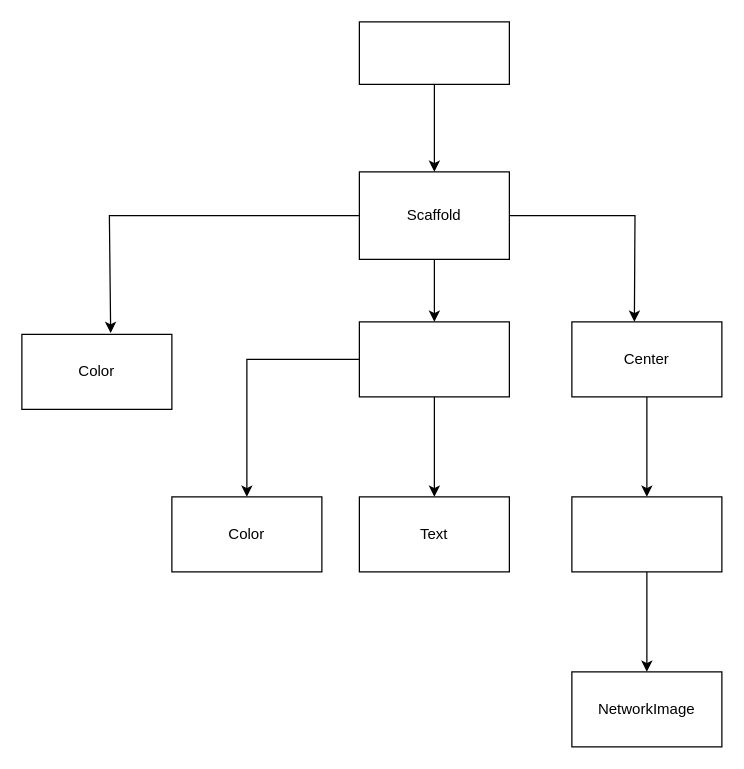
Some shapes in this 744 by 769 pixel diagram are drawn without their labels. The shapes that lost their labels are listed below. From the top down, each one's centre as x and y in pixels, then its label:
At (x=433, y=52): "First Flutter App".
At (x=433, y=359): "AppBar".
At (x=646, y=534): "Image".
